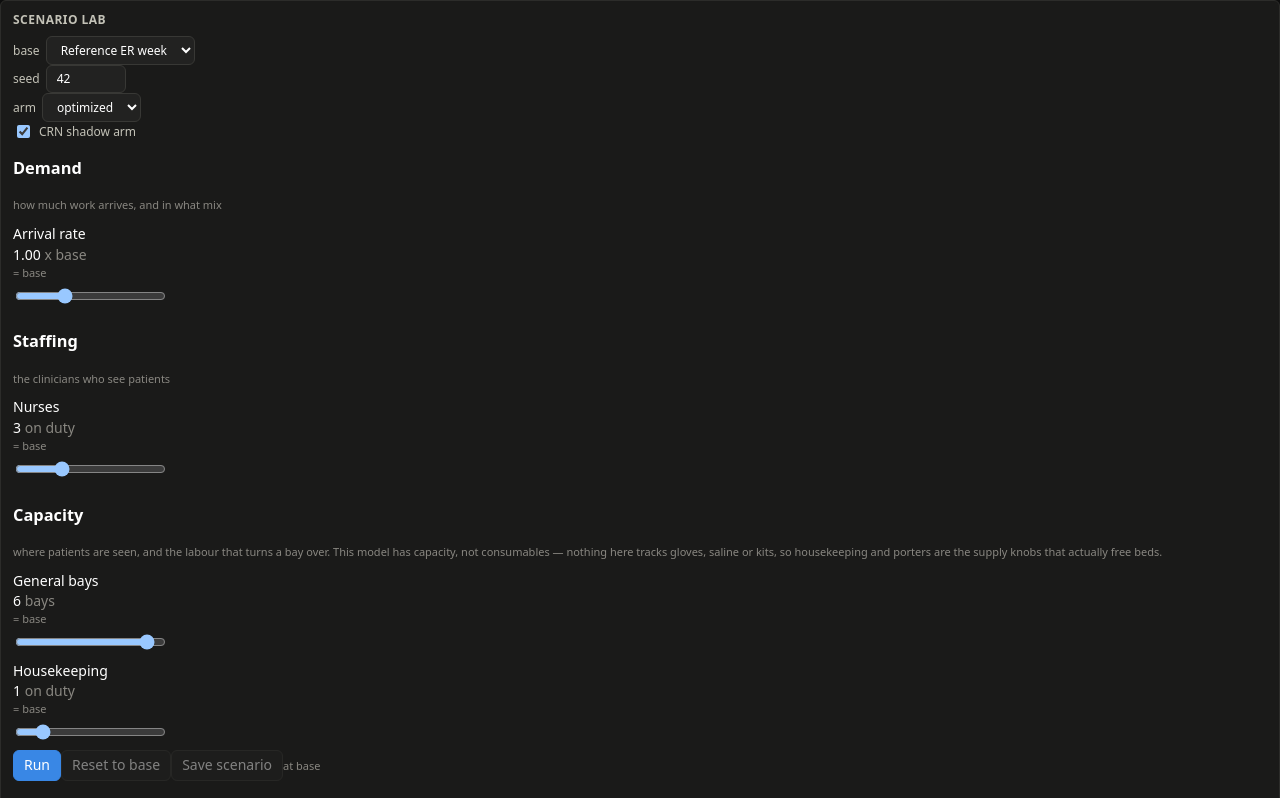
Scenario: ScenarioLab dirty state › a moved slider marks itself against the base it moved from
This screenshot has width=1280, height=798.
Set the slider named "staffing.nurse_count" to "6" at coordinates (90, 469), box x1=15 y1=456 x2=166 y2=482
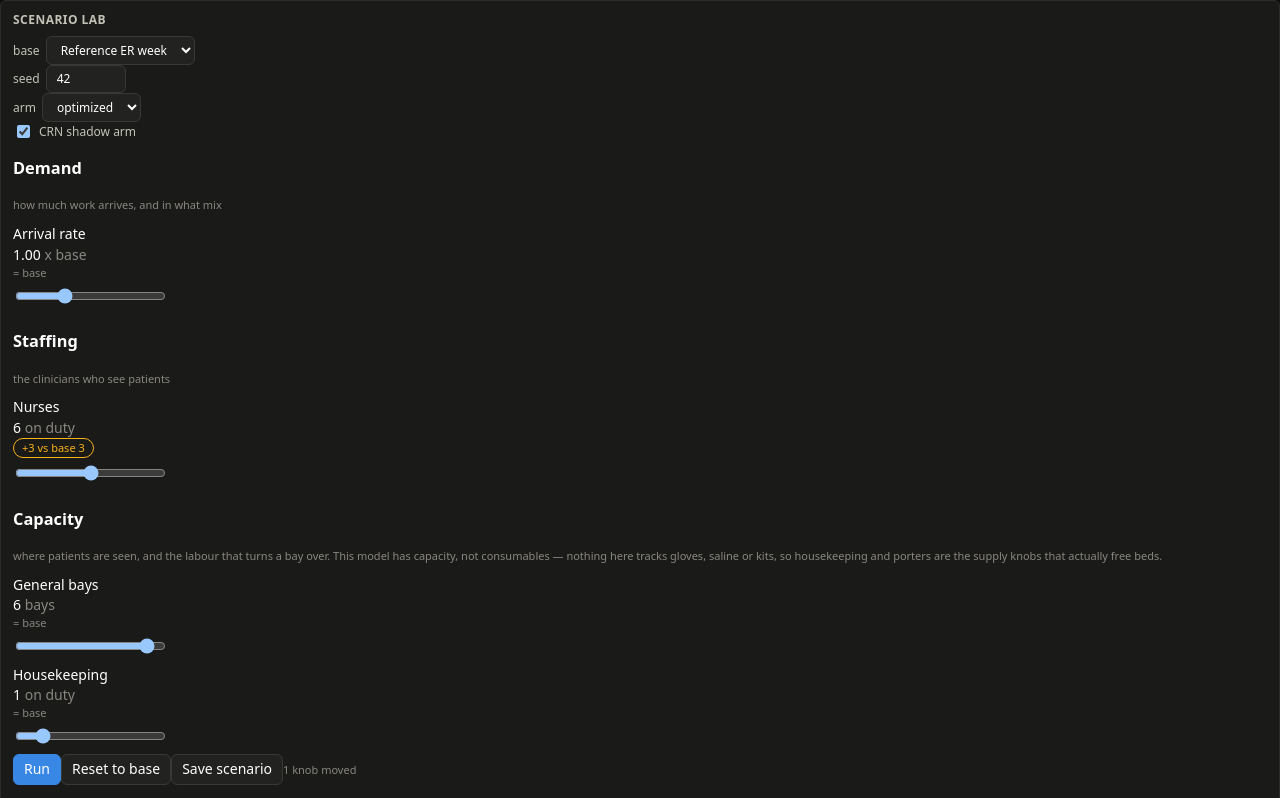
Expected: the text "+3 vs base 3" is shown, x1=13 y1=438 x2=94 y2=458
Expected: the text "= base" is shown 3 times, x1=13 y1=265 x2=47 y2=280; x1=13 y1=615 x2=47 y2=630; x1=13 y1=705 x2=47 y2=720
Expected: the message reads "1 knob moved", x1=283 y1=762 x2=356 y2=777
# ...and the sign is honest in the other direction too.
Set the slider named "staffing.nurse_count" to "1" at coordinates (34, 473), box x1=15 y1=460 x2=166 y2=486
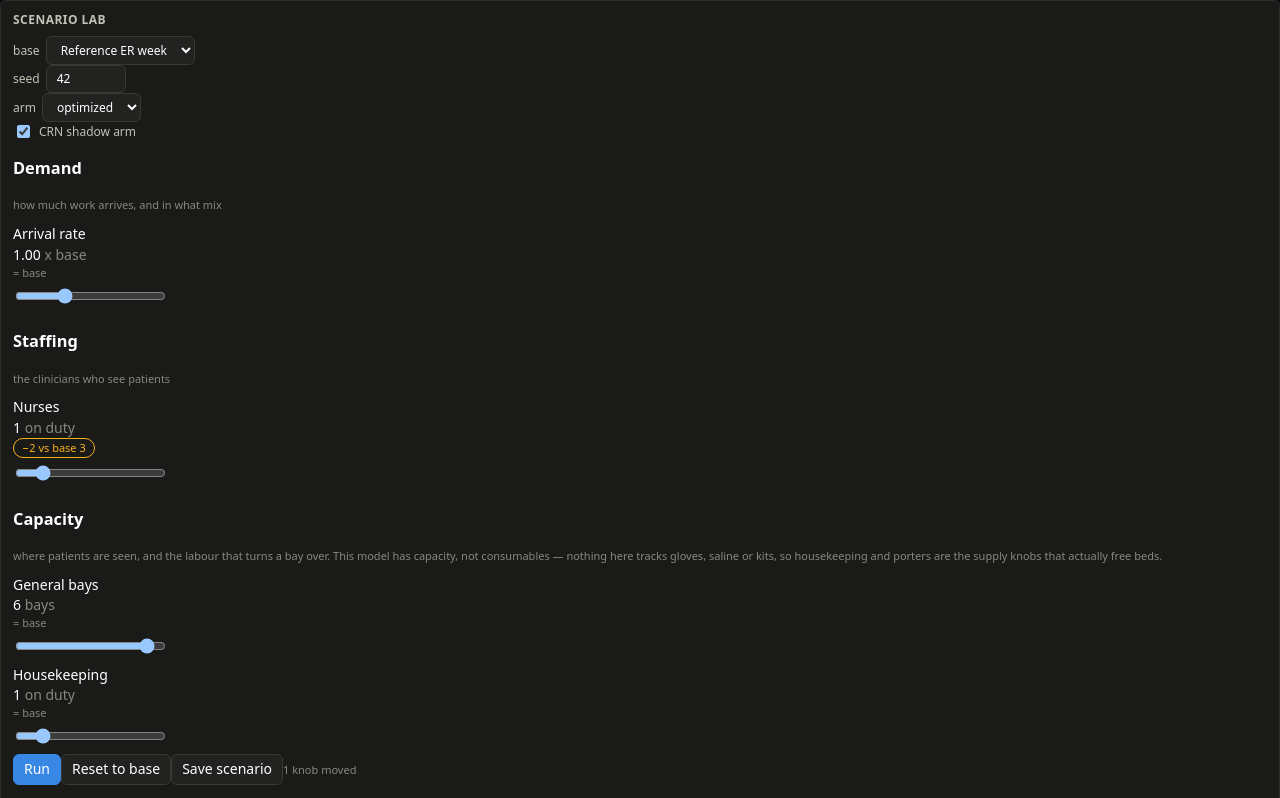
Expected: the text "−2 vs base 3" is shown, x1=13 y1=438 x2=95 y2=458
